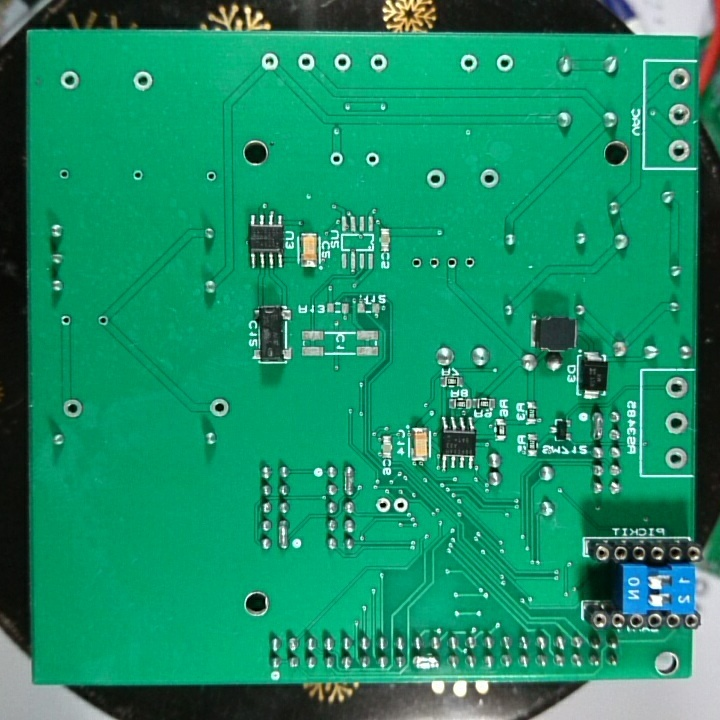F: (662, 372, 691, 403), (662, 443, 691, 474), (665, 100, 694, 129), (665, 135, 693, 165), (57, 66, 85, 95), (662, 409, 690, 438), (665, 66, 694, 93), (476, 165, 502, 195), (131, 66, 157, 94), (208, 395, 233, 423), (423, 166, 449, 192), (59, 396, 86, 421), (492, 51, 517, 78), (258, 48, 282, 76), (294, 49, 318, 77), (367, 51, 392, 77), (457, 52, 482, 78), (332, 50, 354, 75), (326, 149, 348, 169), (363, 147, 382, 170), (391, 494, 408, 518), (373, 496, 391, 517), (202, 167, 219, 186), (409, 255, 425, 274), (55, 166, 72, 183), (425, 255, 442, 272), (129, 166, 145, 184), (445, 253, 459, 273), (95, 313, 111, 329), (59, 312, 74, 329), (462, 255, 478, 270)
P: (339, 463, 358, 498), (410, 653, 441, 673), (274, 518, 291, 553), (589, 408, 605, 443)
